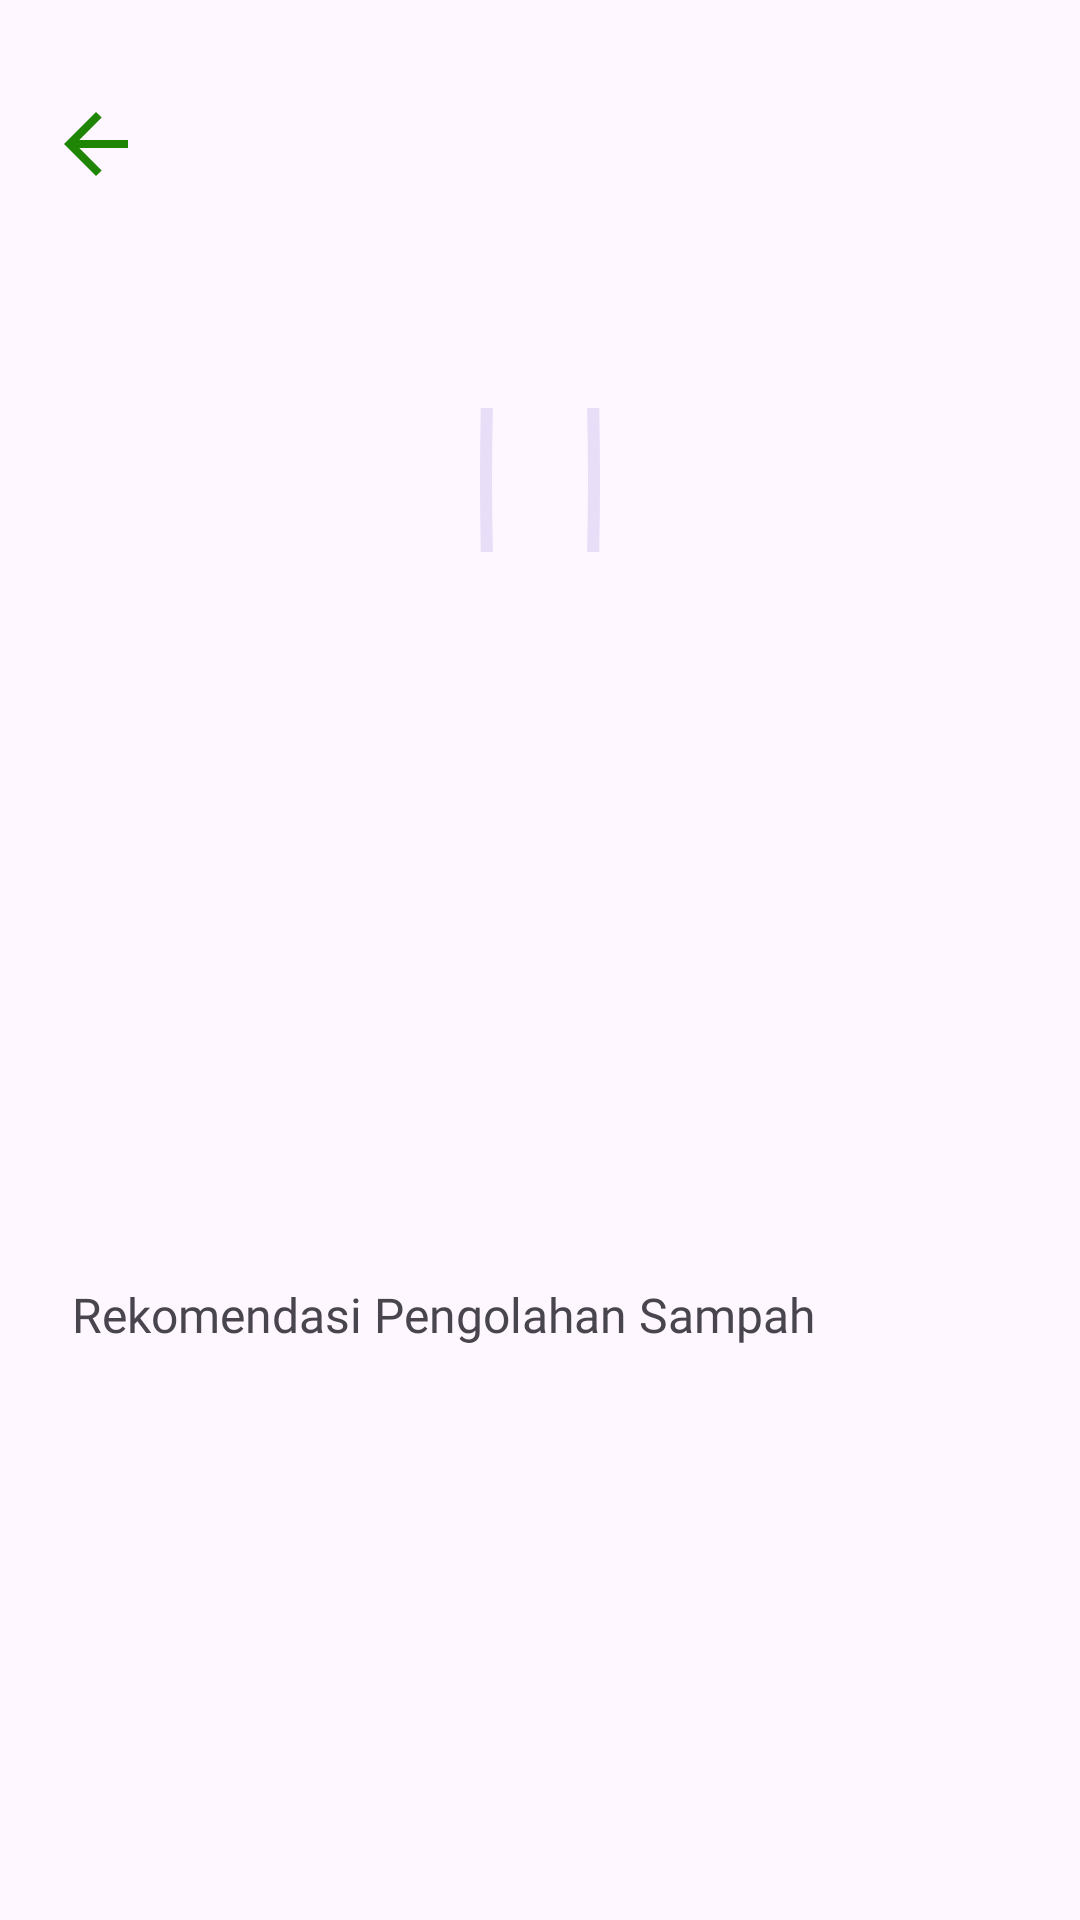

Where icons sit on this 1080 × 1920 app screen, as detection(x1, y1, x2, y2):
Tombol Kembali: detection(64, 112, 128, 176)
